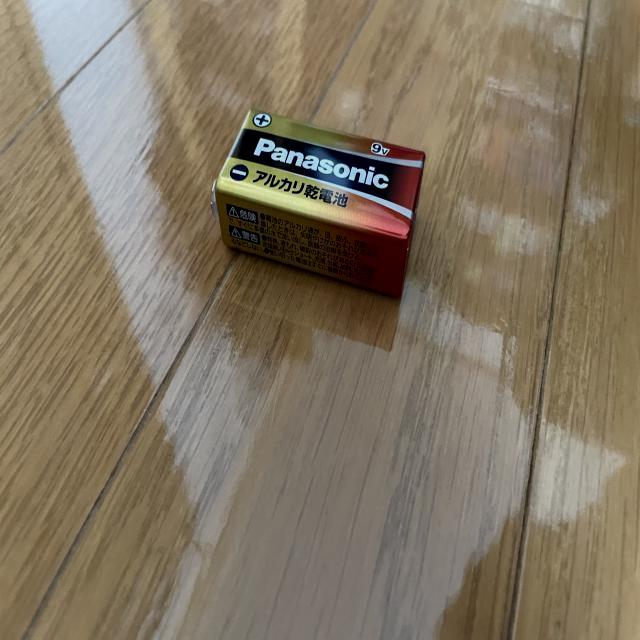9V: (210, 109, 425, 300)
